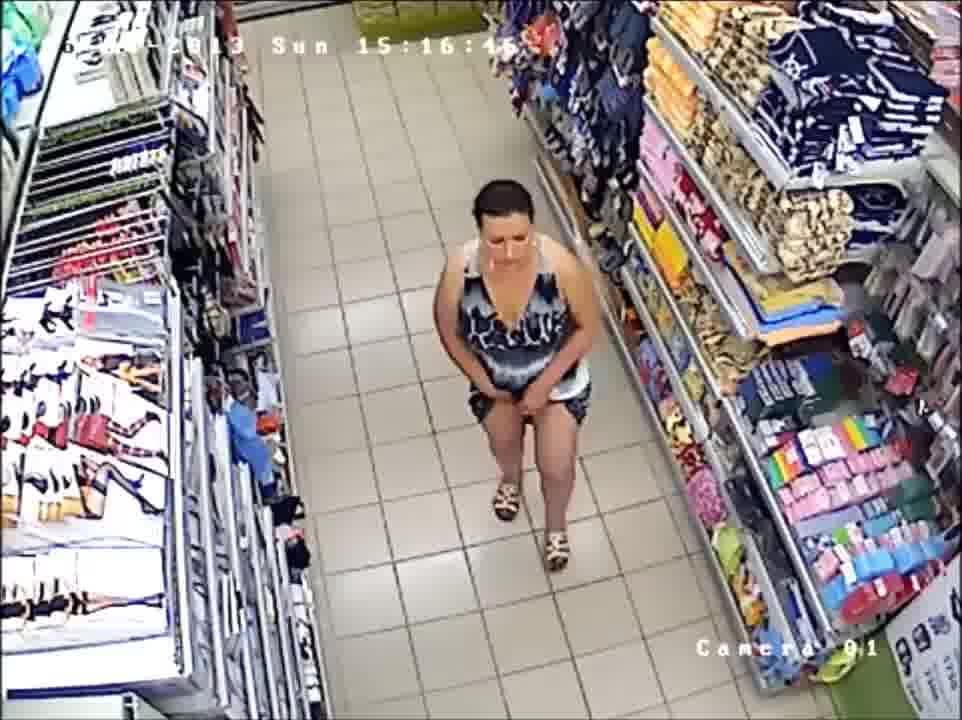shoplifting: (417, 166, 609, 586)
